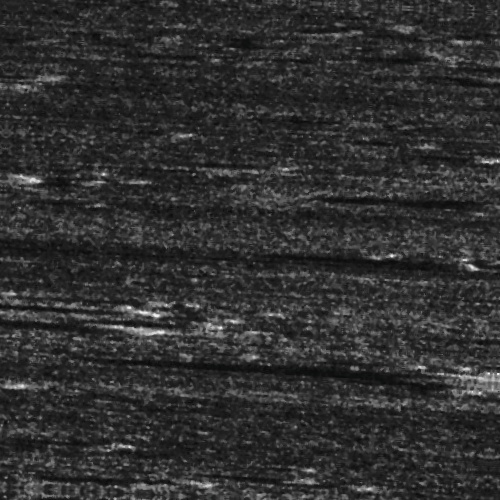object: (420, 355, 500, 382), (57, 328, 214, 339), (143, 477, 236, 486), (424, 248, 497, 257), (0, 389, 69, 398), (0, 181, 69, 190), (164, 323, 247, 330), (11, 81, 64, 88), (293, 471, 346, 476), (114, 312, 167, 317), (478, 188, 500, 197), (488, 141, 500, 148)
shadow: (241, 355, 488, 382), (275, 248, 460, 257), (11, 477, 189, 486), (330, 188, 500, 197), (0, 328, 135, 339), (0, 323, 205, 330), (0, 312, 140, 317), (412, 141, 500, 148), (206, 471, 319, 476), (0, 389, 32, 398), (0, 181, 32, 190), (0, 81, 38, 88)
